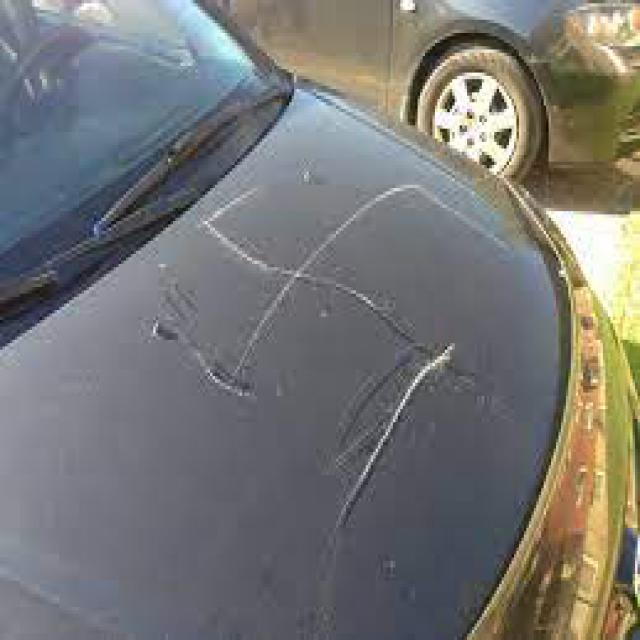bonnet-dent: (101, 135, 570, 604)
